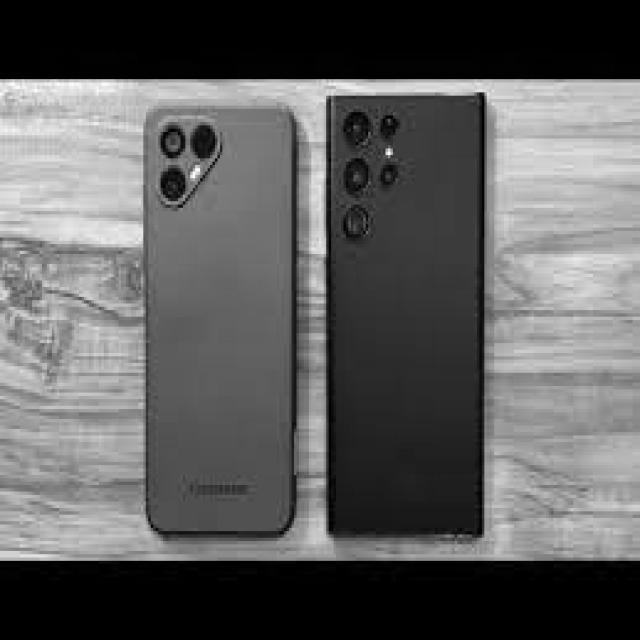No gun_phone: (328, 97, 486, 539), (144, 103, 295, 538)
